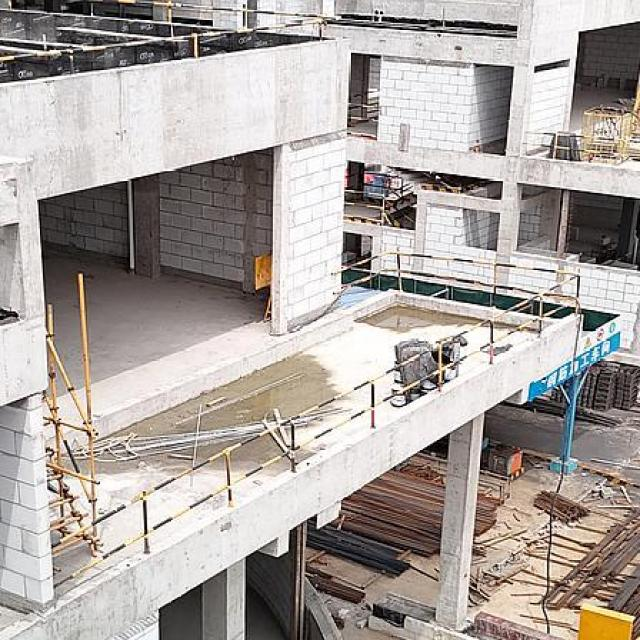edge_guardrail: (47, 247, 582, 590), (0, 0, 335, 74), (524, 130, 640, 159), (344, 189, 384, 225), (364, 172, 414, 197), (348, 104, 378, 124), (366, 89, 379, 114)
